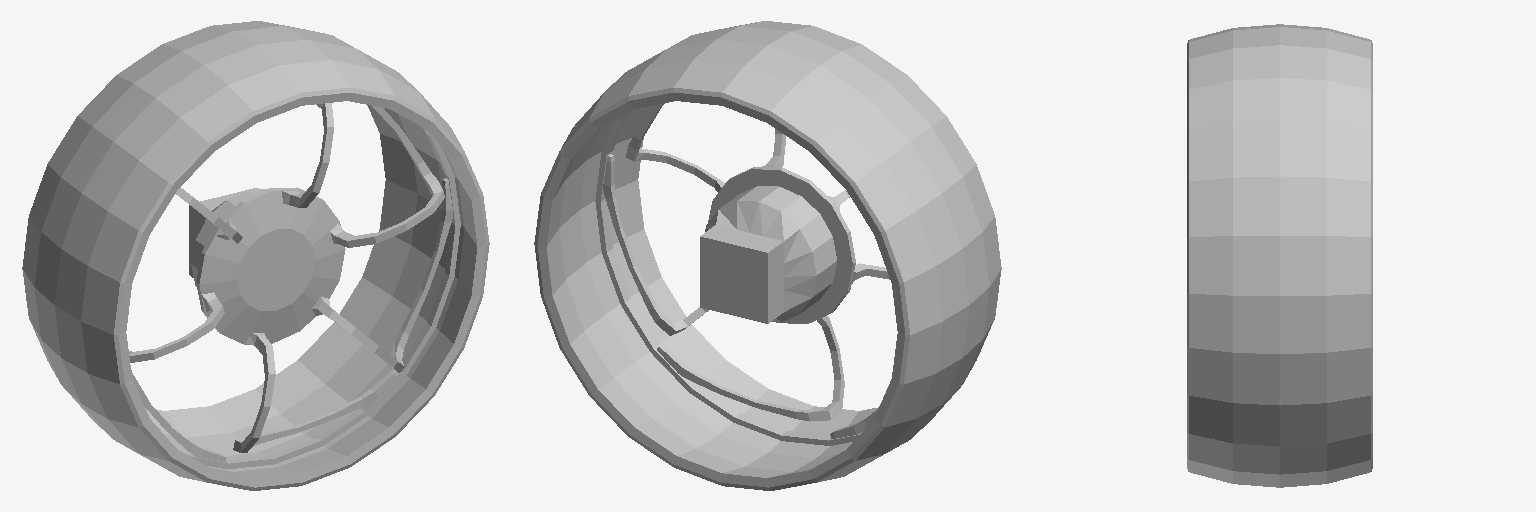
The model's file is spacewheel(L).obj.
3 views of the same model, side by side, from view 1: azimuth 30°, elevation 25°; view 2: azimuth 150°, elevation 25°; view 3: azimuth 270°, elevation 25° (orthographic).
Parts seen in each view (by area): view 1: wheel_01_L_Cylinder.015; view 2: wheel_01_L_Cylinder.015; view 3: wheel_01_L_Cylinder.015.
Part boxes in pixels (x1,y1,x2,y2): wheel_01_L_Cylinder.015: (22,21,489,490); wheel_01_L_Cylinder.015: (534,21,1001,490); wheel_01_L_Cylinder.015: (1187,24,1372,487).
Size of the model in its own units: 5 by 5 by 2.